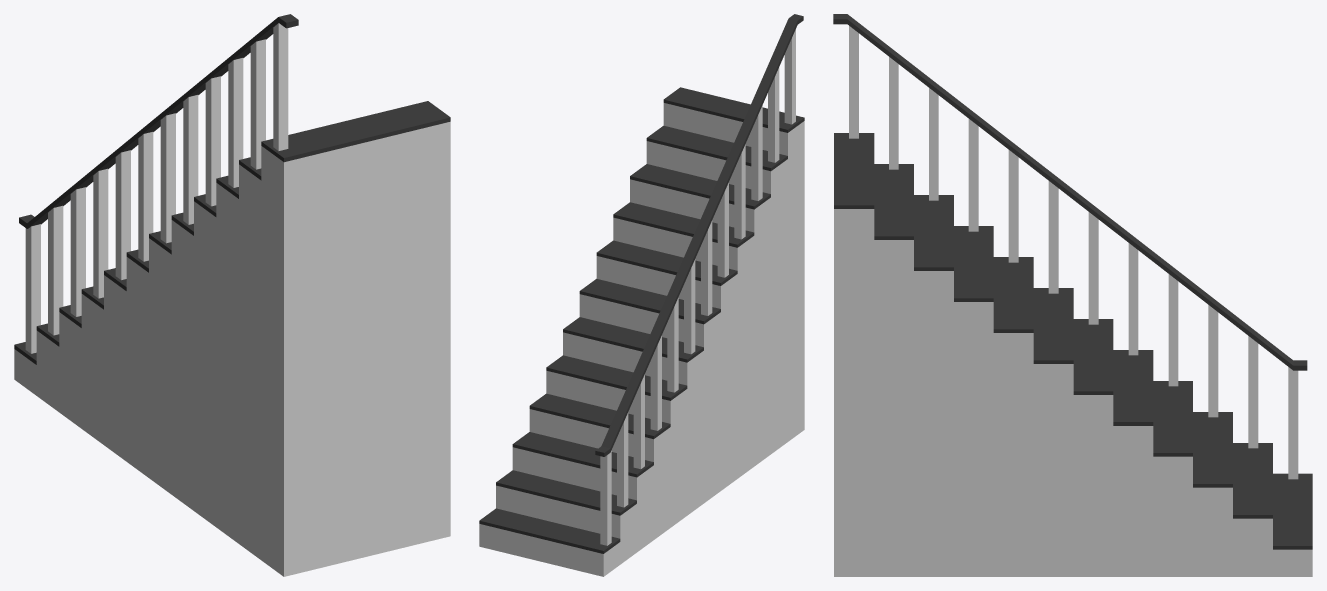
The model's file is Stairs4_C3.fbx.
3 views of the same model, side by side, from view 1: azimuth 30°, elevation 25°; view 2: azimuth 150°, elevation 25°; view 3: azimuth 270°, elevation 25° (orthographic). The views are drawn at different scales.
Parts seen in each view (by area): view 1: Stairs4_C3; view 2: Stairs4_C3; view 3: Stairs4_C3.
Part boxes in pixels (bbox=[...]): Stairs4_C3: bbox=[14, 14, 450, 576]; Stairs4_C3: bbox=[479, 14, 804, 576]; Stairs4_C3: bbox=[833, 14, 1312, 576].
Bounding box in the file's own units: 125 × 397 × 351.
